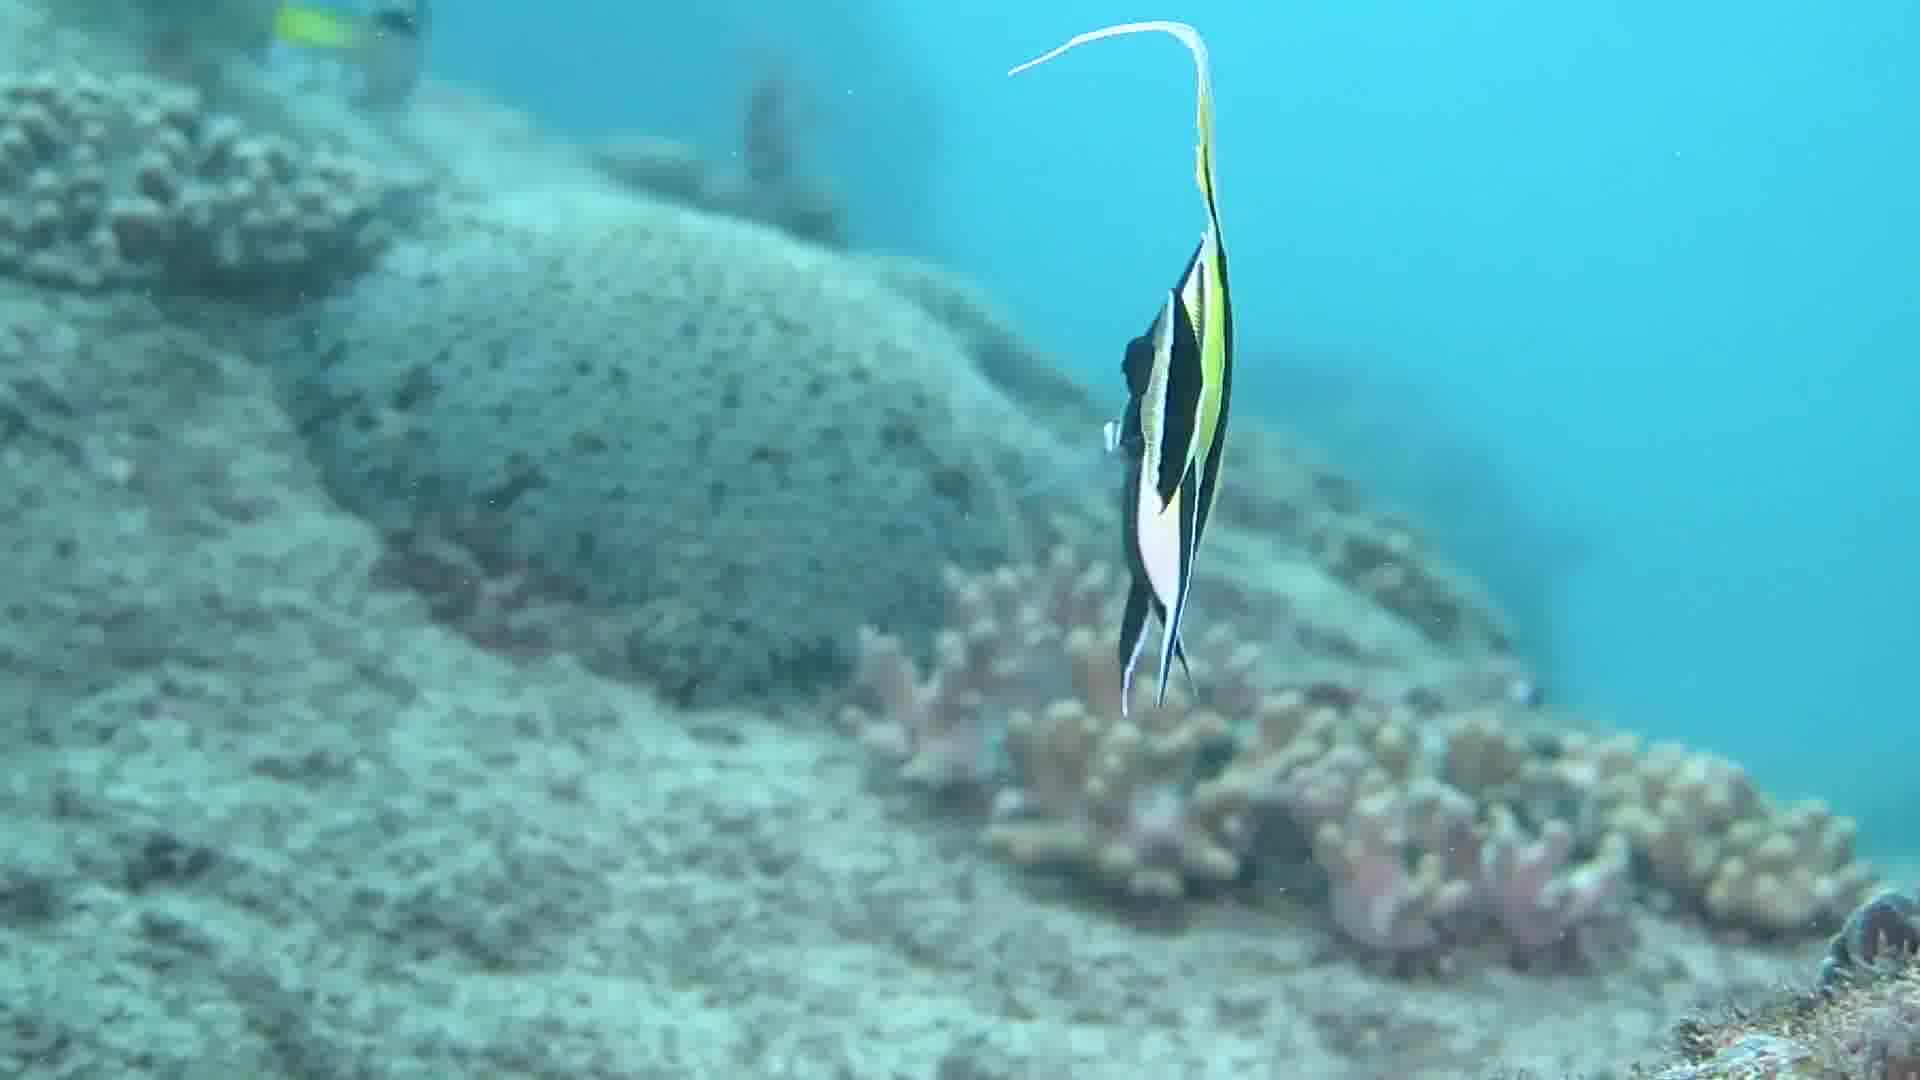Zanclus cornutus: (1019, 9, 1284, 680)
